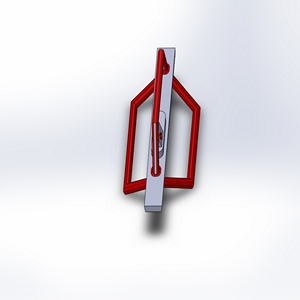submarine: (105, 34, 210, 226)
